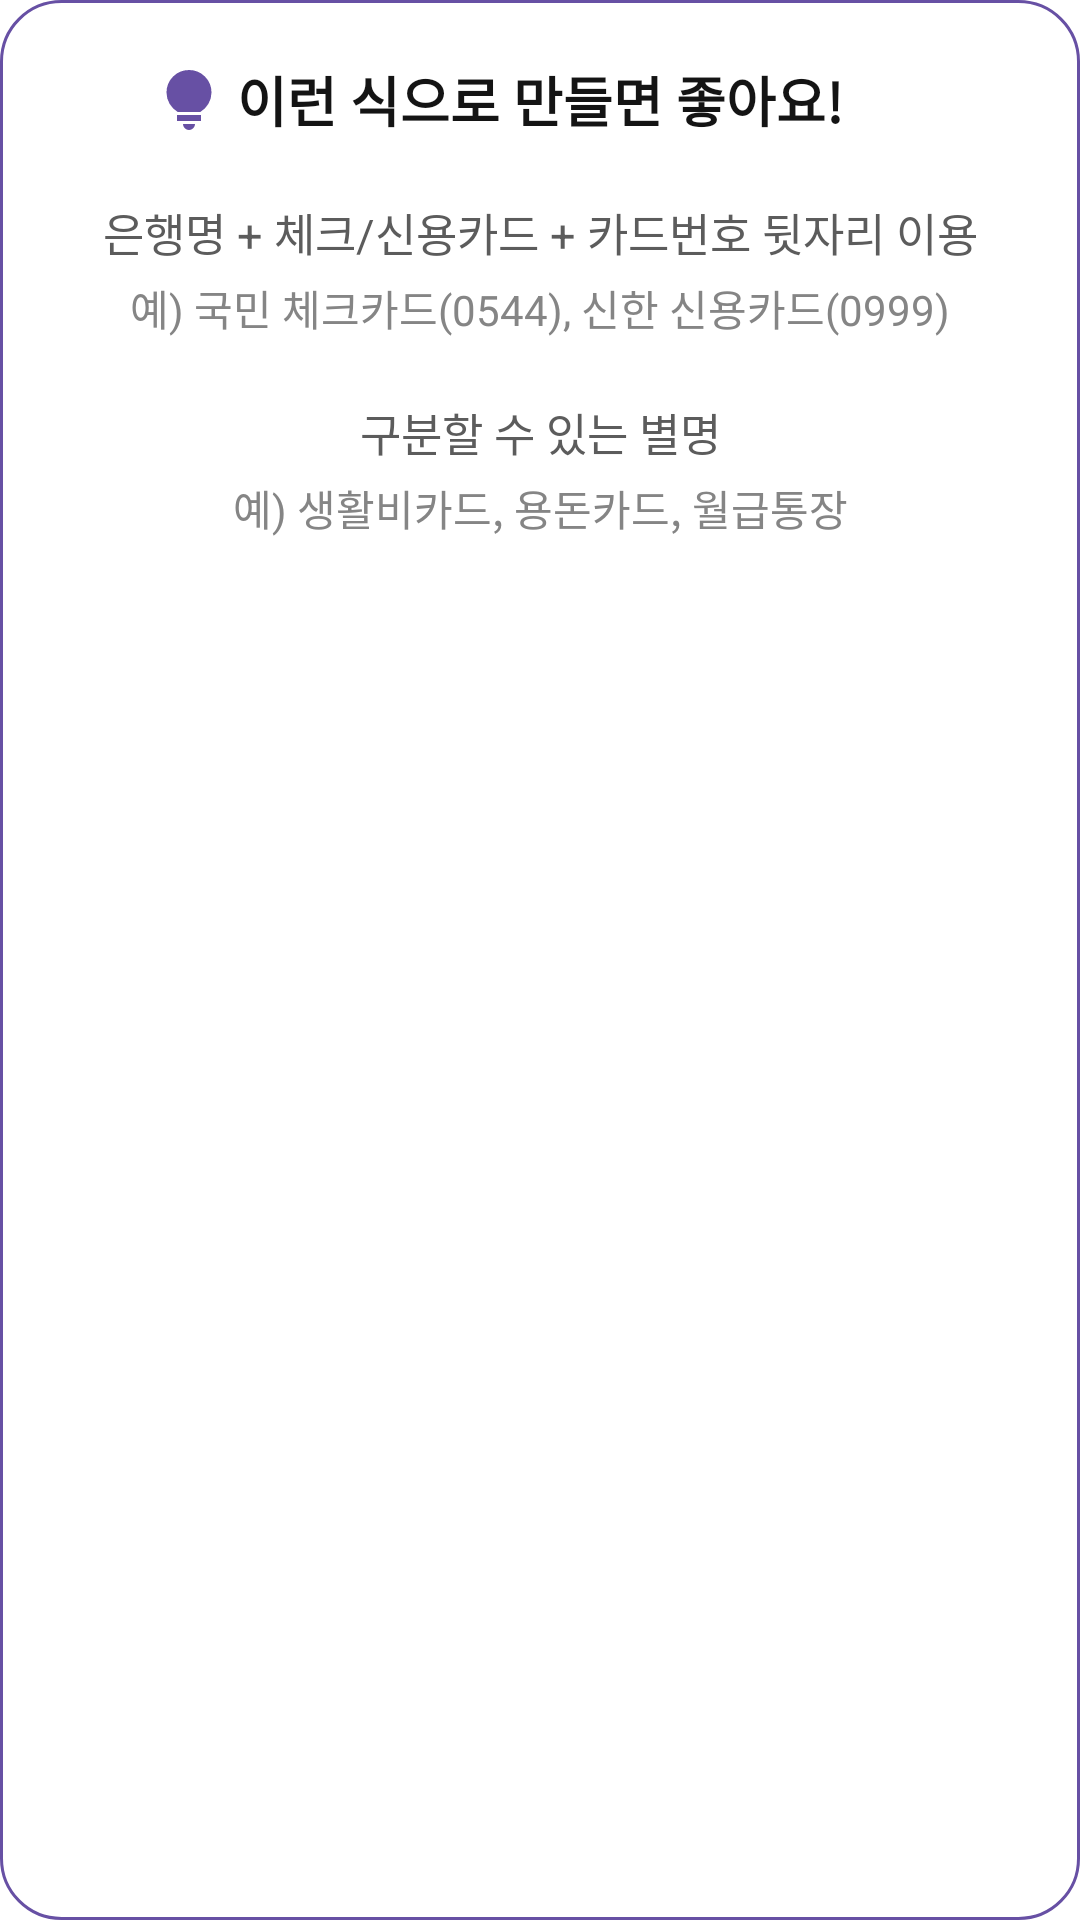

Where to tap for icons on this 1080 × 1920 app screen, as point (x, y):
lightbulb: point (189, 100)
